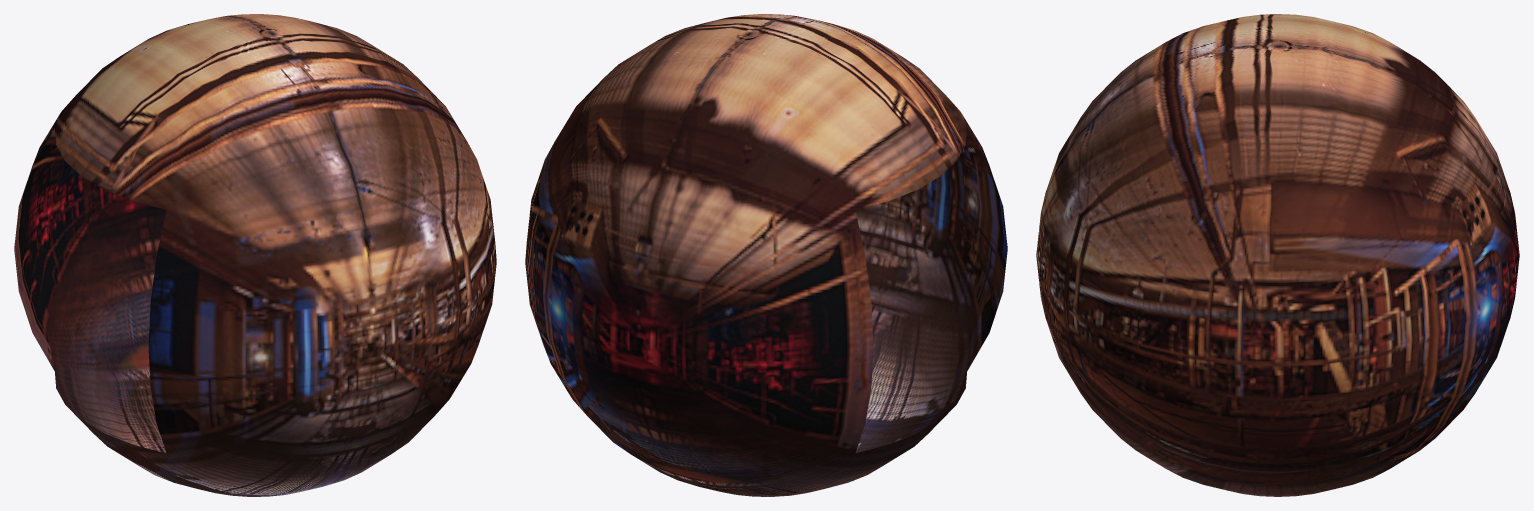
File: overlay.gltf
3 views of the same model, side by side, from view 1: azimuth 30°, elevation 25°; view 2: azimuth 150°, elevation 25°; view 3: azimuth 270°, elevation 25° (orthographic).
Visible parts, largest first — view 1: MSH_EnvSphere; view 2: MSH_EnvSphere; view 3: MSH_EnvSphere.
Boxes of the visible parts, bbox=[...] form: MSH_EnvSphere: bbox=[14, 14, 496, 496]; MSH_EnvSphere: bbox=[525, 14, 1007, 496]; MSH_EnvSphere: bbox=[1036, 14, 1519, 496].
Bounding box in the file's own units: 137 × 149 × 149.
Materials: 12 (5 with a texture image).
